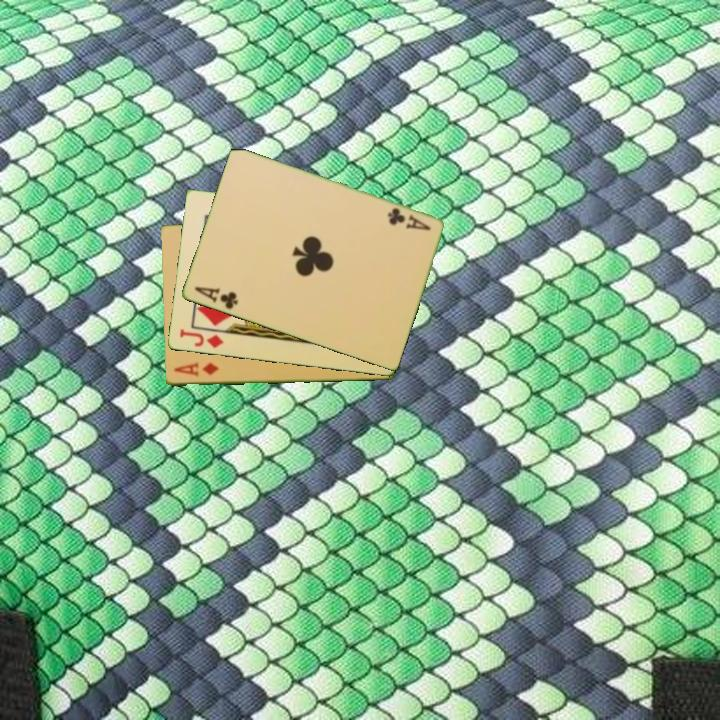Ac: (384, 204, 433, 234), (191, 283, 241, 312)
Ad: (170, 359, 222, 380)
Jd: (176, 326, 226, 351)
